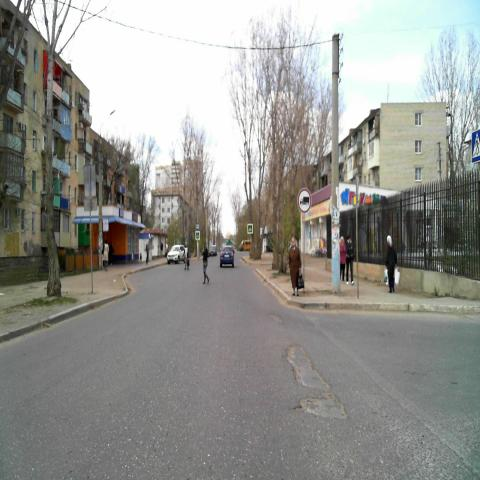3_4_1: (297, 187, 311, 213)
